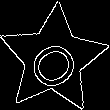O_NE: (21, 27, 86, 91)
